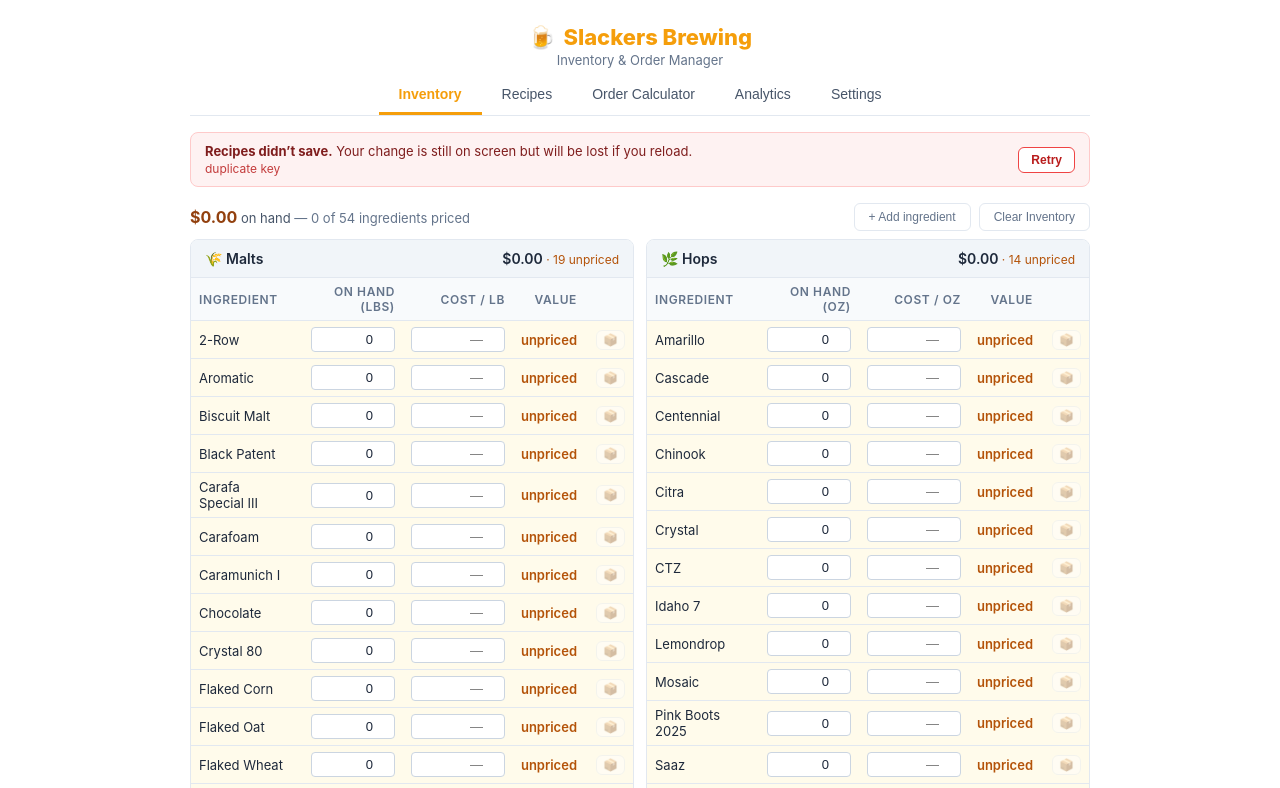
Test: pricing an ingredient with no inventory row › stores the price to the cent
Click the button "Recipes".
click(527, 96)  # box [482,76,572,115]
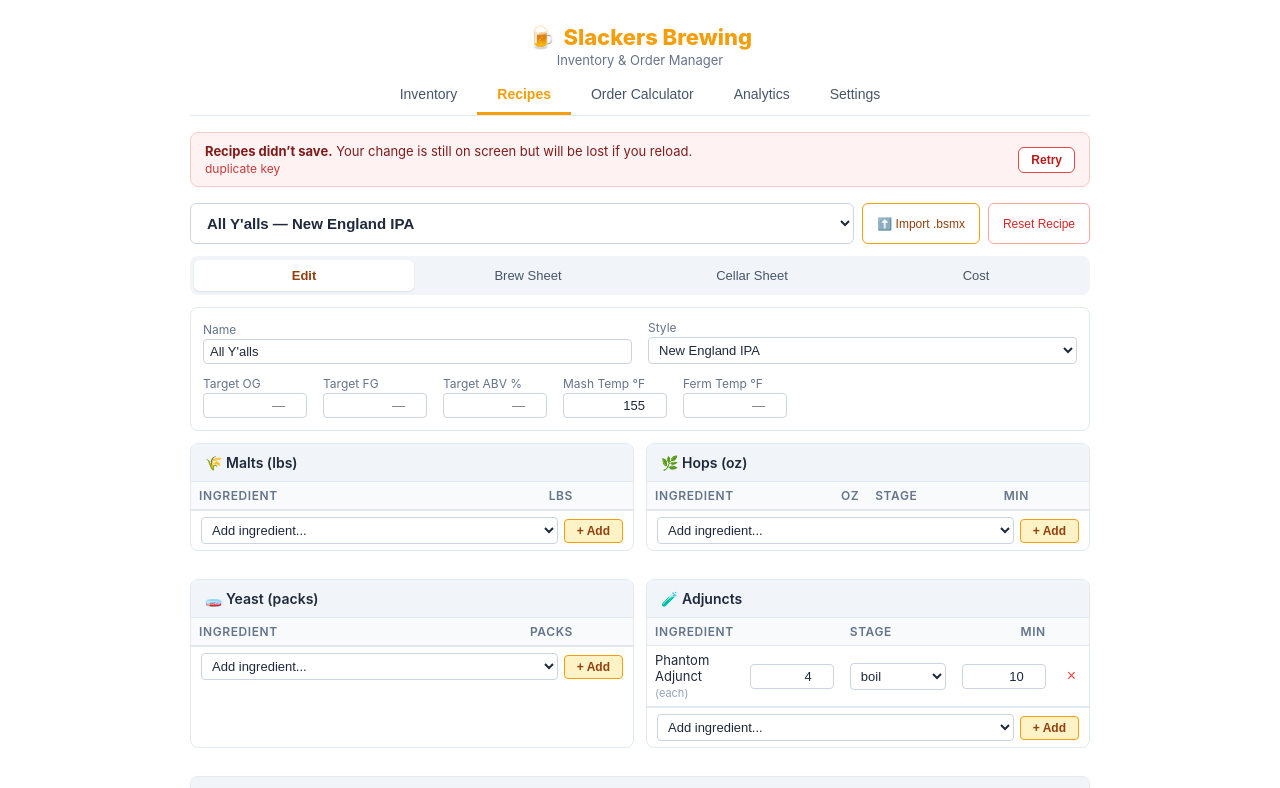
Click the button "Cost".
click(976, 276)  # box [866,260,1086,291]
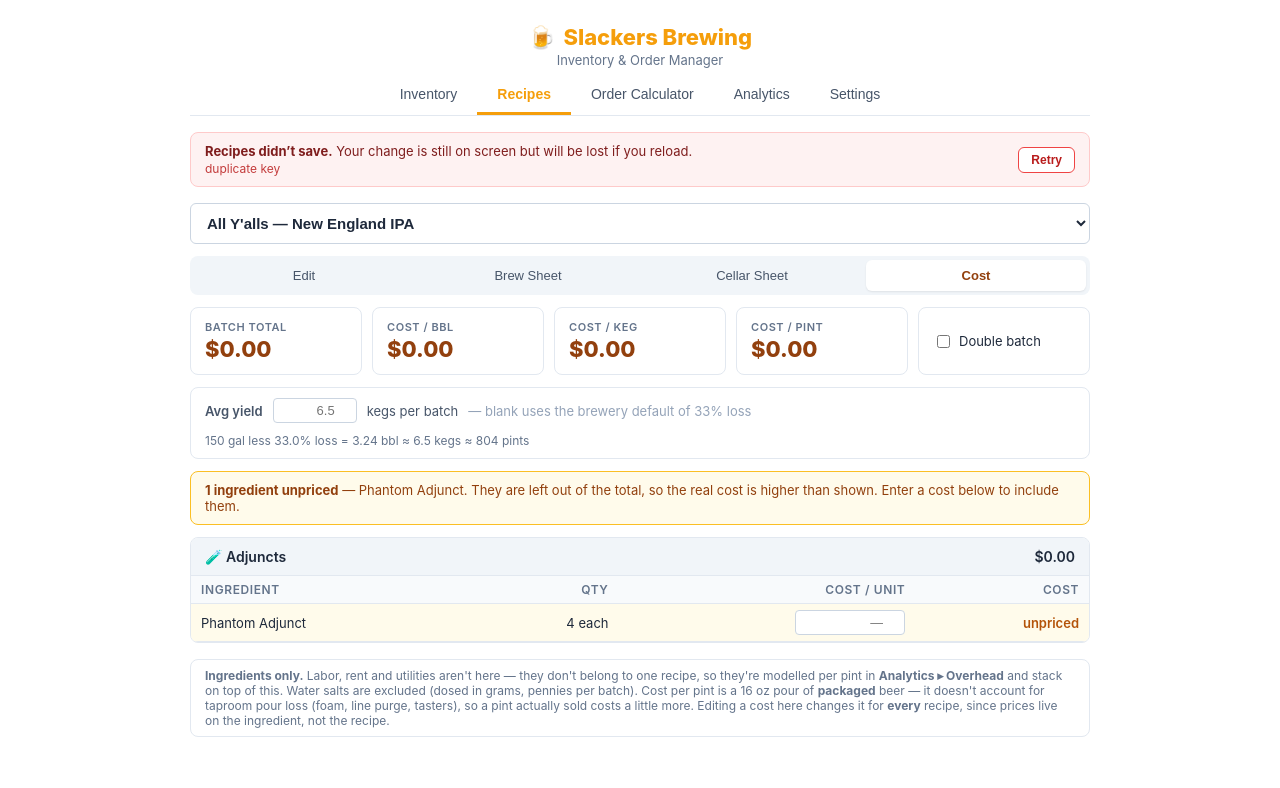
Type "2.567" into the number field named "Cost per each of Phantom Adjunct".
click(850, 622); type("2.567")  # box [795,610,905,635]
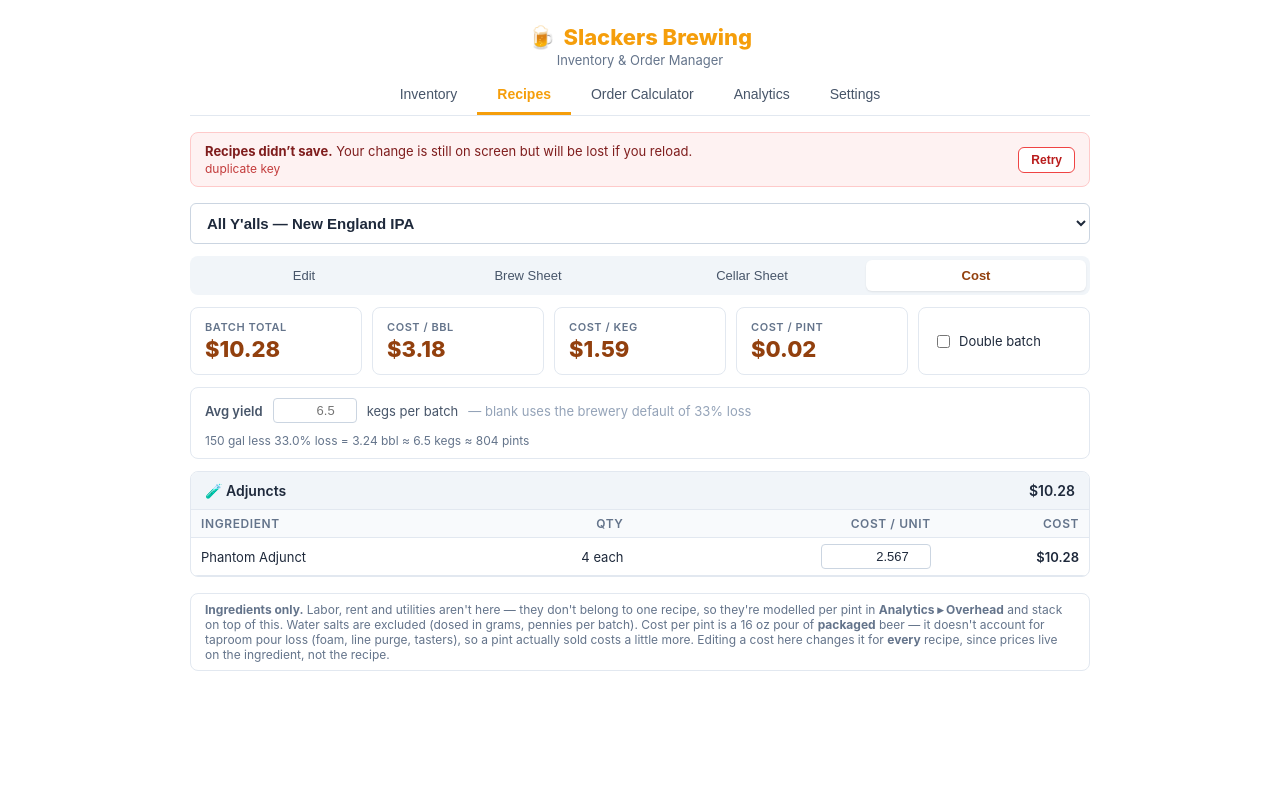
expect the text "$10.28" is shown: met, box [941,538,1089,576]
Leave the number field named "Cost per each of Phantom Adjunct", box [821,544,931,569]
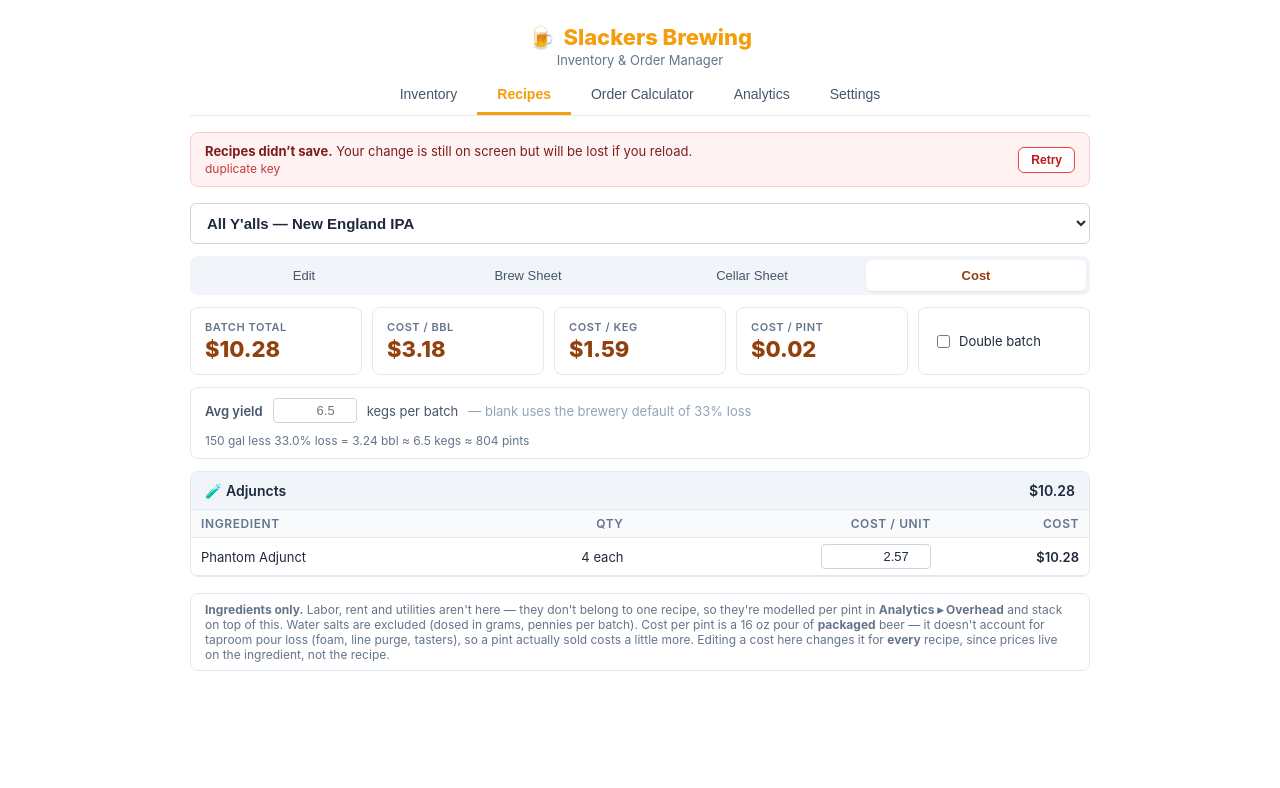
expect the number field named "Cost per each of Phantom Adjunct" holds "2.57": met, box [821,544,931,569]
